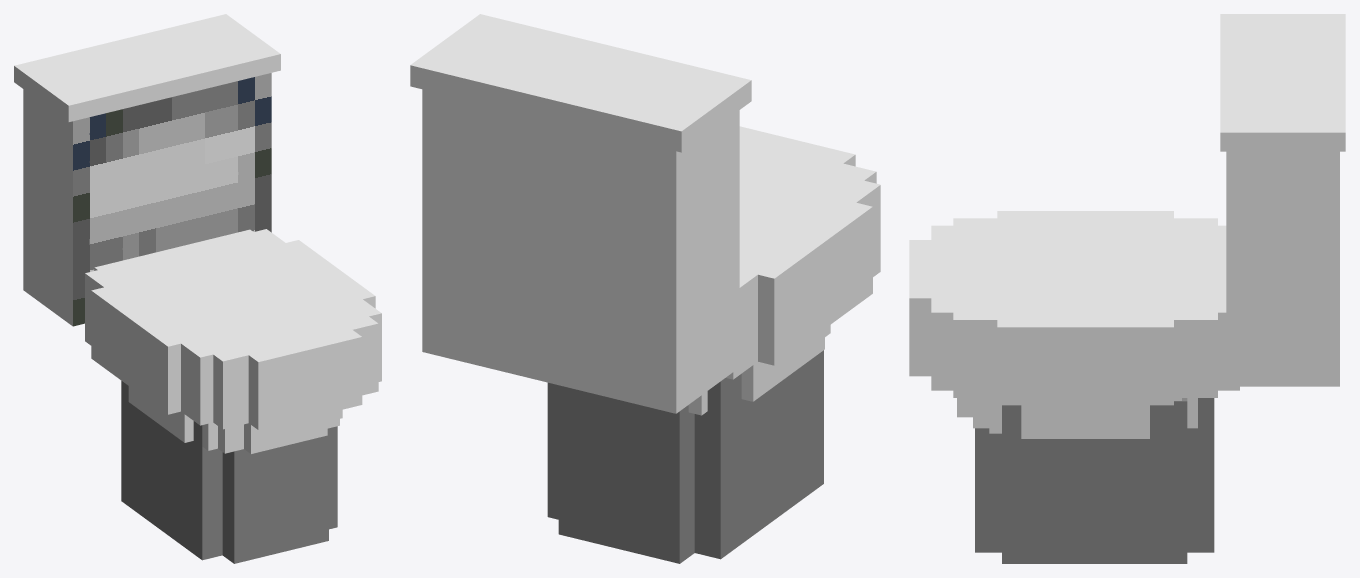
The model's file is toilet.glb.
3 renders of one model, left to right at view 1: azimuth 30°, elevation 25°; view 2: azimuth 150°, elevation 25°; view 3: azimuth 270°, elevation 25°, orthographic. The views are drawn at different scales.
Parts seen in each view (by area): view 1: toilet_Porcelain_Body, toilet_Seat_Lid.001, toilet_Cistern_Lid; view 2: toilet_Porcelain_Body, toilet_Cistern_Lid, toilet_Seat_Lid.001; view 3: toilet_Porcelain_Body, toilet_Seat_Lid.001, toilet_Cistern_Lid.
Boxes of the visible parts, box(x1,y1,x2,y2) form: toilet_Porcelain_Body: box(23, 73, 381, 563); toilet_Seat_Lid.001: box(85, 229, 381, 373); toilet_Cistern_Lid: box(14, 14, 280, 121); toilet_Porcelain_Body: box(422, 89, 880, 563); toilet_Cistern_Lid: box(410, 14, 751, 152); toilet_Seat_Lid.001: box(739, 126, 880, 302); toilet_Porcelain_Body: box(909, 151, 1339, 563); toilet_Seat_Lid.001: box(909, 211, 1226, 340); toilet_Cistern_Lid: box(1220, 14, 1345, 151).
Size of the model in its own units: 0.47 by 0.835 by 0.73.
2 materials, 1 textured.
